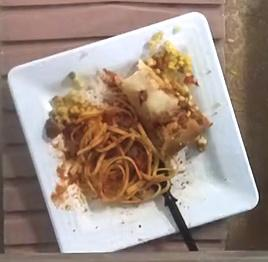corn: (141, 32, 198, 89)
pasta: (51, 91, 159, 203)
pizza: (121, 60, 204, 158)
